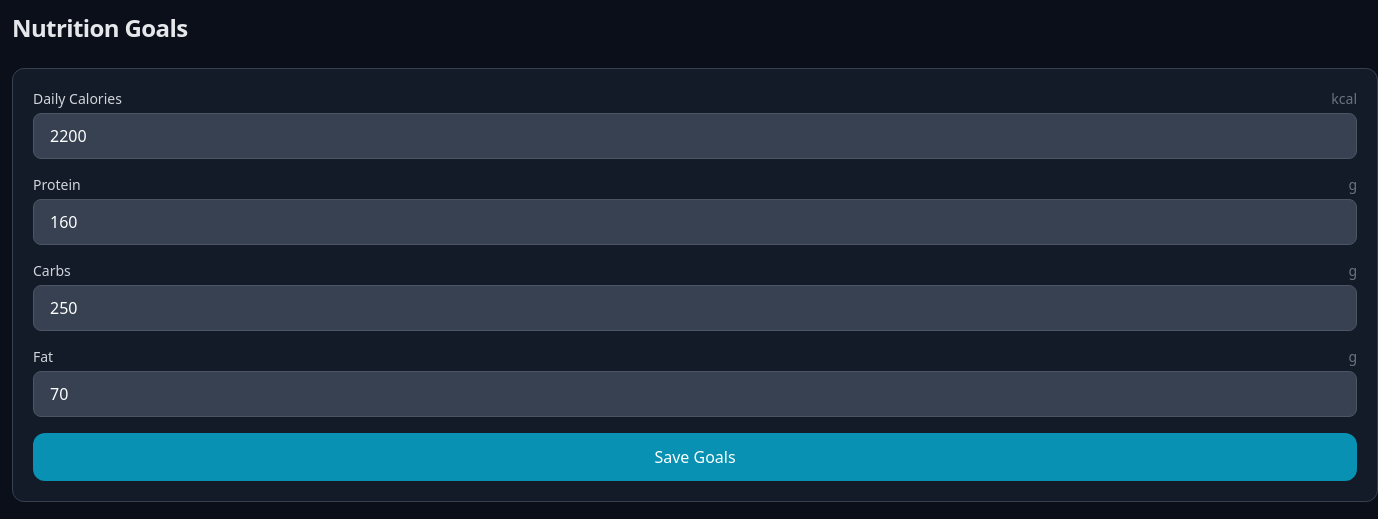
Test: GoalsPage › shows saved confirmation
The width and height of the screenshot is (1378, 519).
Click the button "Save Goals" at coordinates (695, 457), box [33, 433, 1357, 481]
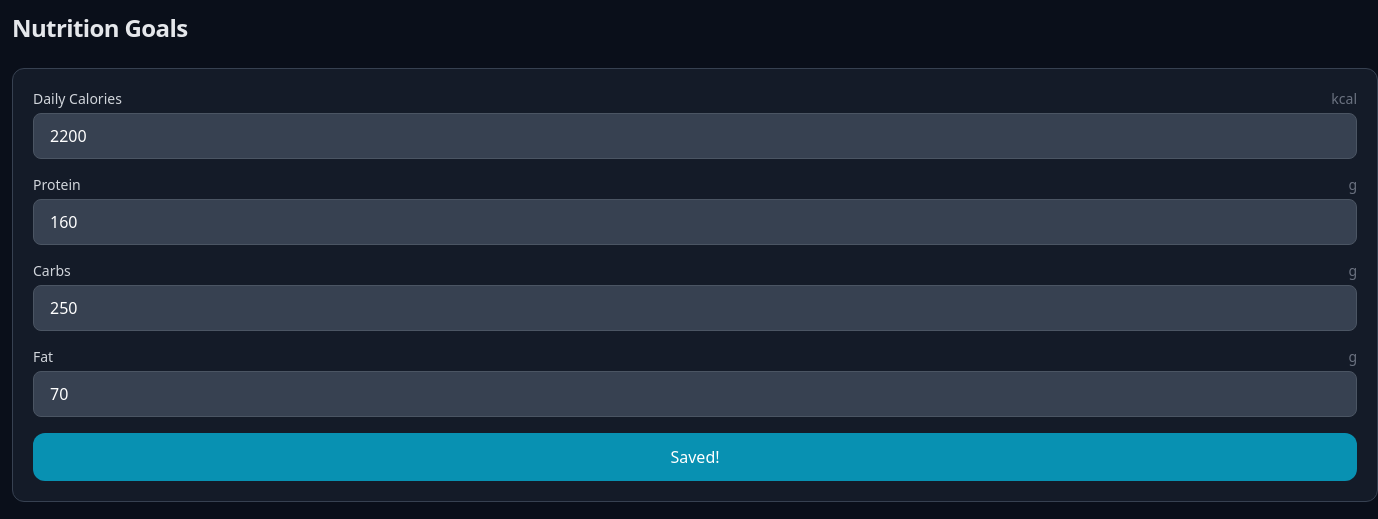
Now the button "Saved!" is shown, box [33, 433, 1357, 481]
